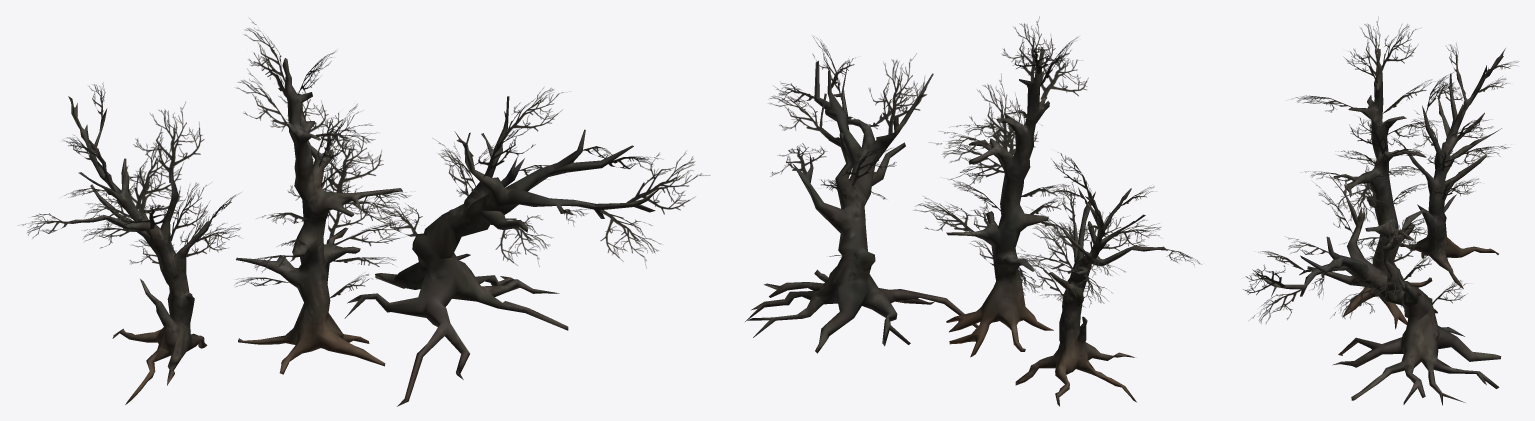
The model's file is trees.glb.
3 views of the same model, side by side, from view 1: azimuth 30°, elevation 25°; view 2: azimuth 150°, elevation 25°; view 3: azimuth 270°, elevation 25° (orthographic). The views are drawn at different scales.
Parts seen in each view (by area): view 1: tree2, tree1, tree3, branches, branches_3, branches_2; view 2: tree2, tree1, branches, tree3, branches_3, branches_2; view 3: tree2, tree3, tree1, branches, branches_2, branches_3.
Boxes of the visible parts, left/top/right/bottom form: tree2: left=344, top=96, right=661, bottom=406; tree1: left=236, top=58, right=402, bottom=374; tree3: left=68, top=96, right=211, bottom=404; branches: left=235, top=18, right=424, bottom=298; branches_3: left=18, top=82, right=241, bottom=264; branches_2: left=375, top=87, right=710, bottom=268; tree2: left=745, top=58, right=978, bottom=353; tree1: left=946, top=48, right=1053, bottom=357; branches: left=913, top=16, right=1088, bottom=299; tree3: left=1015, top=187, right=1167, bottom=406; branches_3: left=1006, top=152, right=1201, bottom=307; branches_2: left=768, top=36, right=926, bottom=260; tree2: left=1252, top=174, right=1501, bottom=405; tree3: left=1399, top=48, right=1505, bottom=288; tree1: left=1333, top=48, right=1437, bottom=329; branches: left=1292, top=17, right=1441, bottom=261; branches_2: left=1243, top=184, right=1467, bottom=323; branches_3: left=1389, top=43, right=1518, bottom=199.
Size of the model in its own units: 1554 by 1006 by 889.
Materials: 4 (4 with a texture image).
